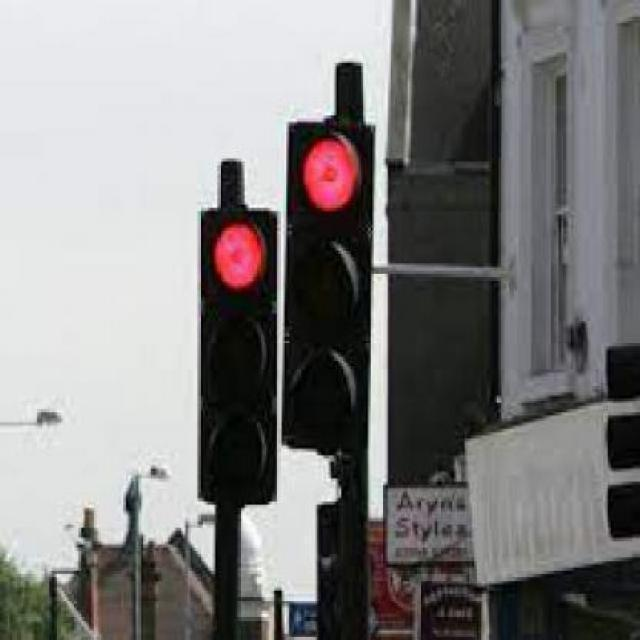red_light: (293, 126, 362, 443), (202, 214, 270, 508)
